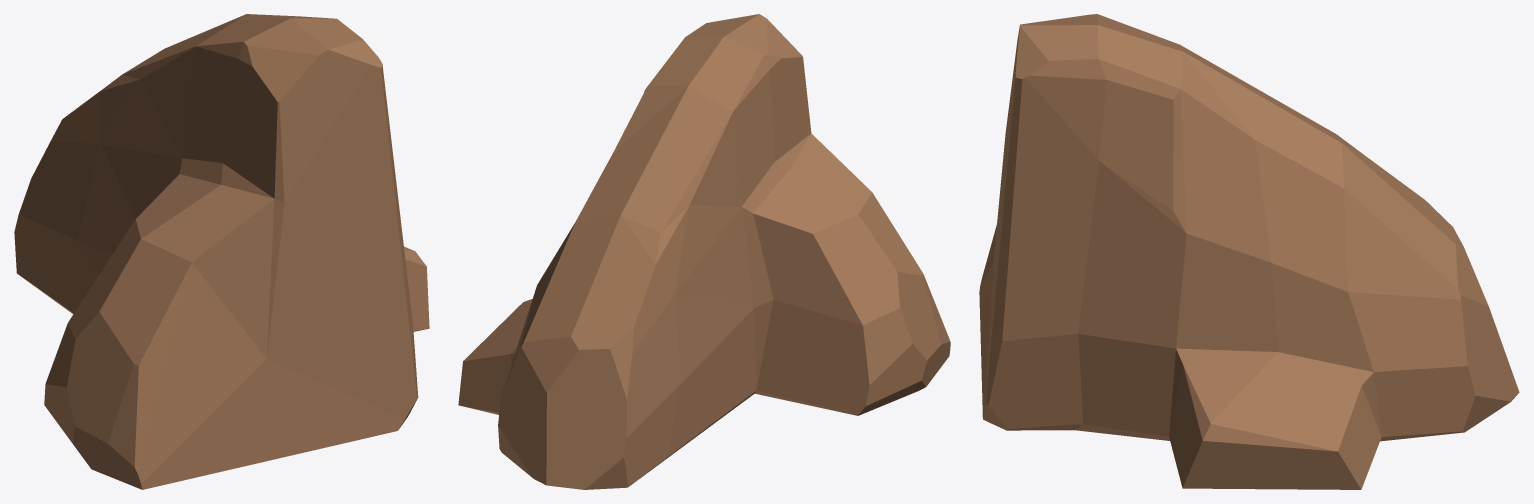
File: rock3.fbx
3 views of the same model, side by side, from view 1: azimuth 30°, elevation 25°; view 2: azimuth 150°, elevation 25°; view 3: azimuth 270°, elevation 25° (orthographic). The views are drawn at different scales.
Parts seen in each view (by area): view 1: Rock3; view 2: Rock3; view 3: Rock3.
Part boxes in pixels (left/top/right/bottom): Rock3: left=14, top=14, right=429, bottom=489; Rock3: left=458, top=14, right=950, bottom=489; Rock3: left=979, top=14, right=1519, bottom=489.
Bounding box in the file's own units: 4.54 × 4.01 × 5.2.
